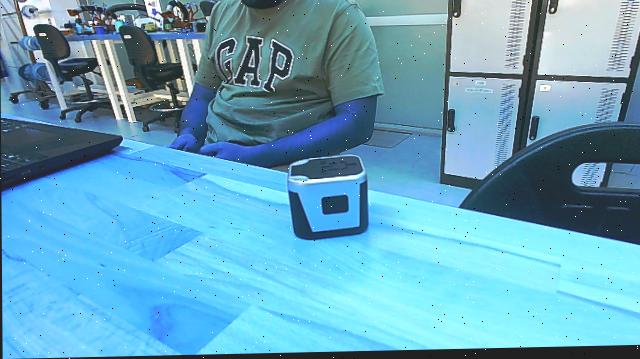adapter: (275, 154, 373, 253)
